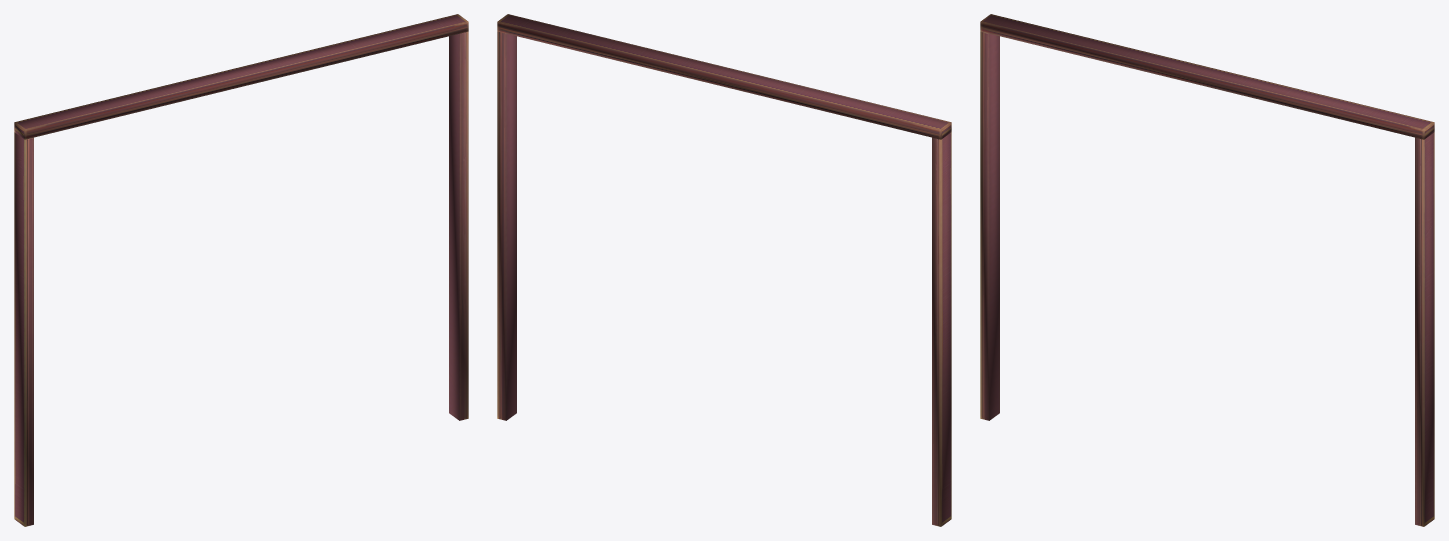
The model's file is dock-shelter-frame-tripo-original.glb.
3 renders of one model, left to right at view 1: azimuth 30°, elevation 25°; view 2: azimuth 150°, elevation 25°; view 3: azimuth 330°, elevation 25°, orthographic.
Visible parts, largest first — view 1: Authored_surface_017; view 2: Authored_surface_017; view 3: Authored_surface_017.
Boxes of the visible parts, <box> form: Authored_surface_017: <box>14,14,468,526</box>; Authored_surface_017: <box>497,14,951,526</box>; Authored_surface_017: <box>980,14,1434,526</box>.
Size of the model in its own units: 1 by 0.8542 by 0.0417.
1 material, 1 textured.
